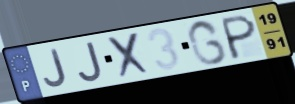3: (146, 25, 184, 73)
G: (185, 18, 230, 67)
J: (76, 40, 105, 84), (42, 47, 69, 88)
P: (220, 12, 258, 62)
X: (105, 31, 154, 81)
